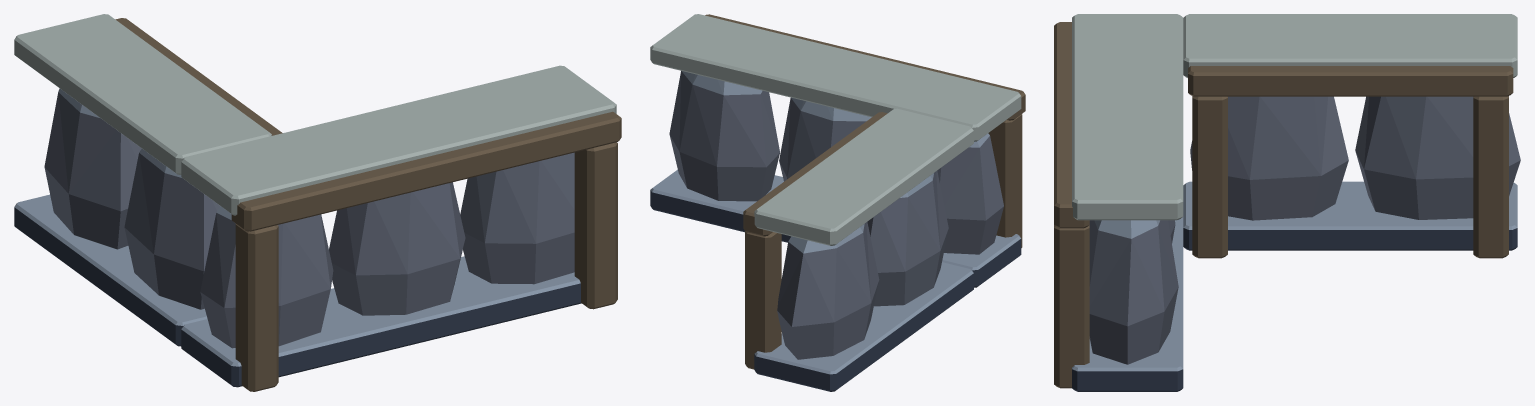
File: wall-corner.glb
3 views of the same model, side by side, from view 1: azimuth 30°, elevation 25°; view 2: azimuth 150°, elevation 25°; view 3: azimuth 270°, elevation 25° (orthographic). The views are drawn at different scales.
Visible parts, largest first — view 1: wall-corner__body; view 2: wall-corner__body; view 3: wall-corner__body.
Part boxes in pixels (bbox=[...]): wall-corner__body: bbox=[14, 14, 621, 391]; wall-corner__body: bbox=[650, 14, 1025, 391]; wall-corner__body: bbox=[1054, 14, 1520, 391].
Size of the model in its own units: 2.01 by 0.95 by 2.09.
